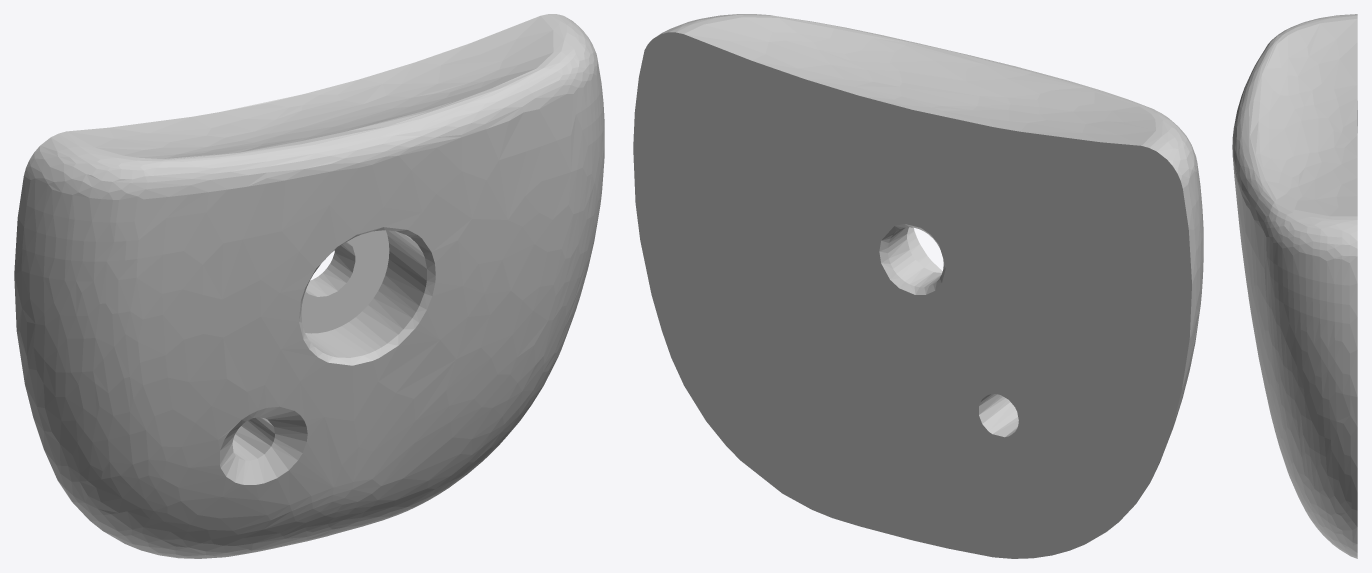
File: Crimp_1_with_screwhole_fixed.glb
3 views of the same model, side by side, from view 1: azimuth 30°, elevation 25°; view 2: azimuth 150°, elevation 25°; view 3: azimuth 270°, elevation 25° (orthographic). The views are drawn at different scales.
Size of the model in its own units: 2704541 by 2082861 by 592958.
Materials: 1 (1 with a texture image).
